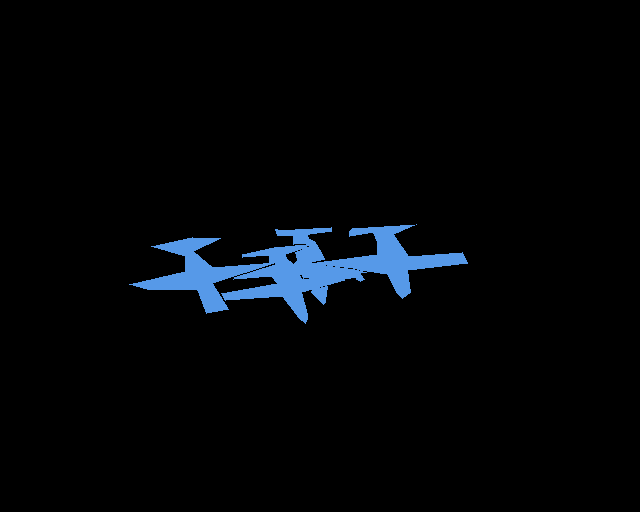Airplane: (309, 224, 467, 298), (129, 237, 276, 313), (221, 244, 344, 323), (275, 227, 366, 305)
